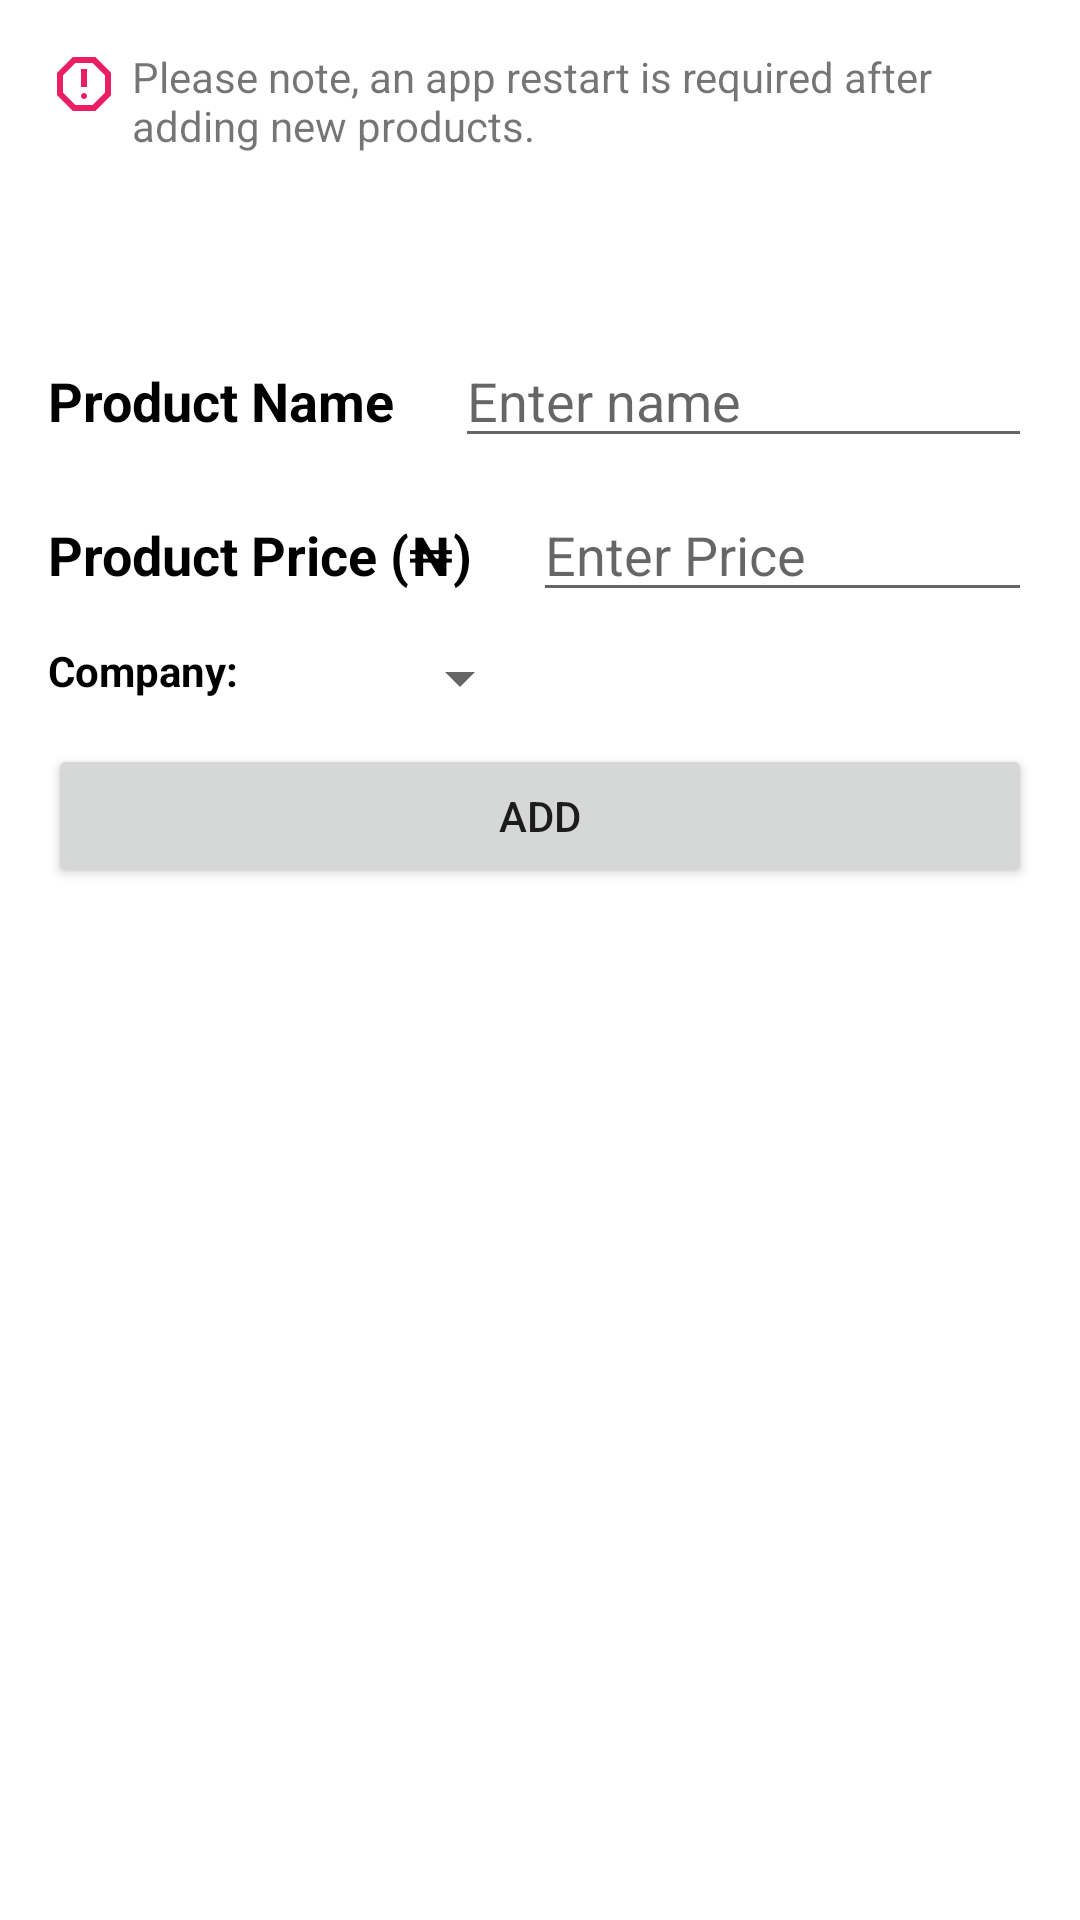

Icons on this 1080px x 1920px Android screen, each with its box as (x1, y1, x2, y2):
warning: (57, 57, 111, 111)
